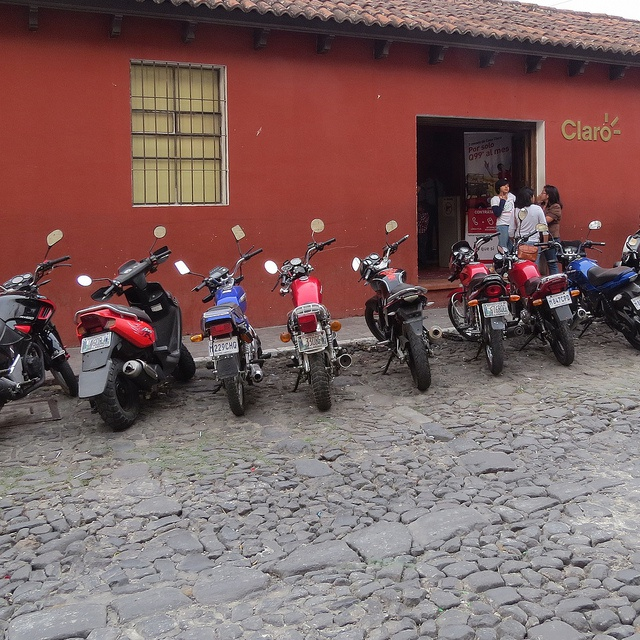non-vehicle: (72, 223, 197, 433), (173, 223, 271, 416), (263, 218, 353, 411), (350, 218, 443, 390), (495, 207, 587, 366), (0, 227, 78, 413), (531, 219, 639, 348), (446, 230, 525, 373), (612, 228, 639, 286)
